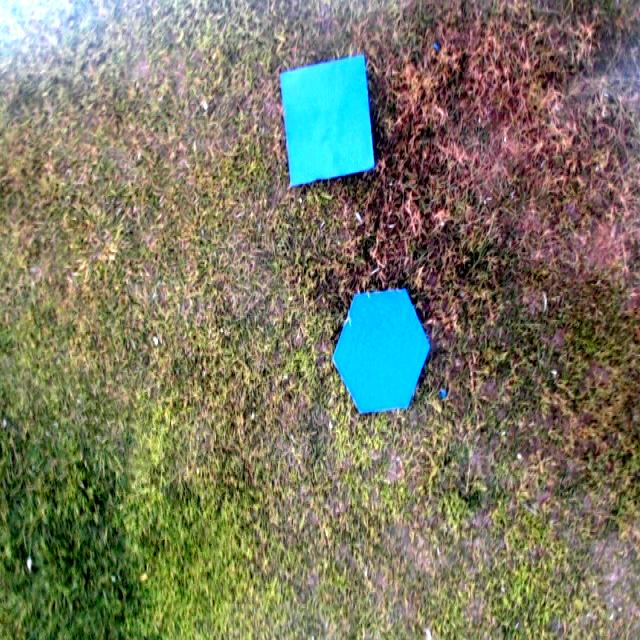blue_hexagon: (331, 286, 431, 412)
blue_square: (278, 53, 376, 188)
